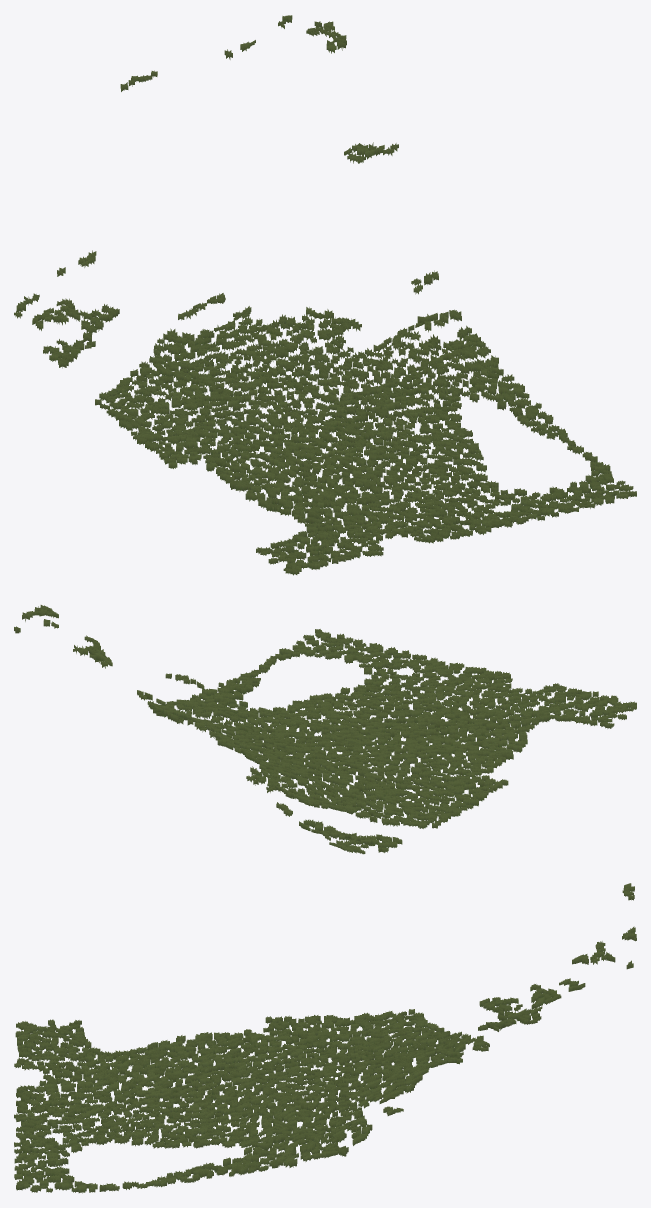
Rendered from TRB8-GRASS-CHUNK-1-2.glb.
3 renders of one model, top to bottom at view 1: azimuth 30°, elevation 25°; view 2: azimuth 150°, elevation 25°; view 3: azimuth 270°, elevation 25°, orthographic. The views are drawn at different scales.
Parts seen in each view (by area): view 1: TRB8-GRASS-CHUNK-1-2; view 2: TRB8-GRASS-CHUNK-1-2; view 3: TRB8-GRASS-CHUNK-1-2.
Boxes of the visible parts, x1=… form: TRB8-GRASS-CHUNK-1-2: x1=14, y1=15, x2=636, y2=575; TRB8-GRASS-CHUNK-1-2: x1=14, y1=605, x2=636, y2=854; TRB8-GRASS-CHUNK-1-2: x1=14, y1=883, x2=636, y2=1193.
Bounding box in the file's own units: 25.57 × 17.54 × 40.49.
1 material, 1 textured.
